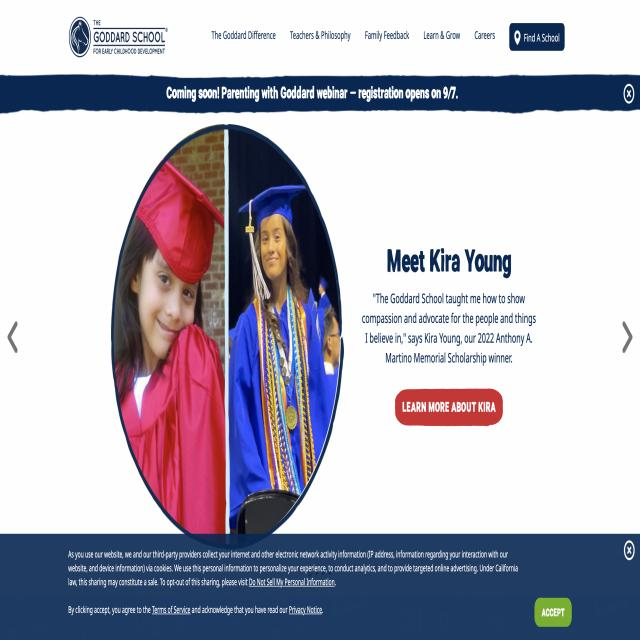Logo: (63, 3, 177, 67)
Navigation: (204, 19, 578, 57)
